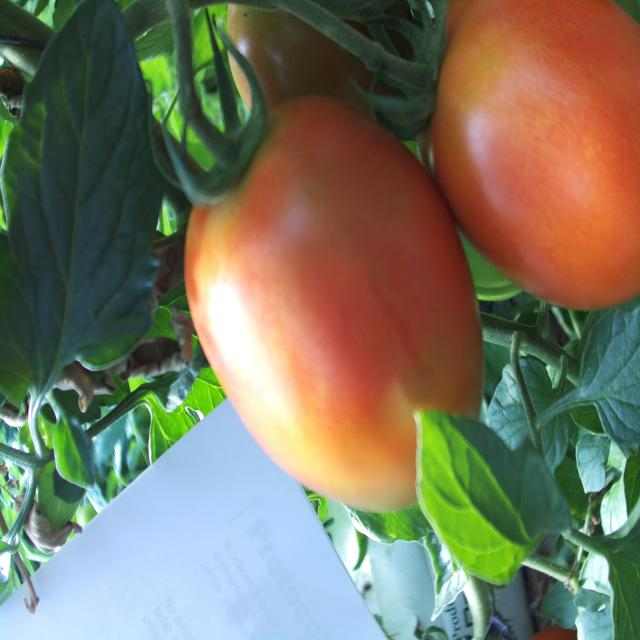sari: (152, 82, 498, 539)
